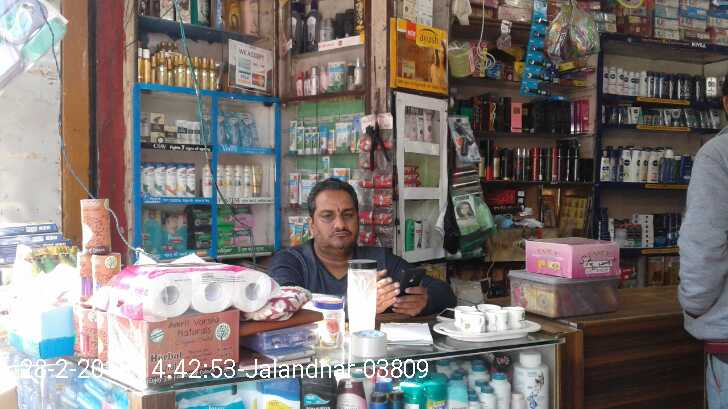venus: (226, 112, 241, 144), (241, 113, 255, 144)
